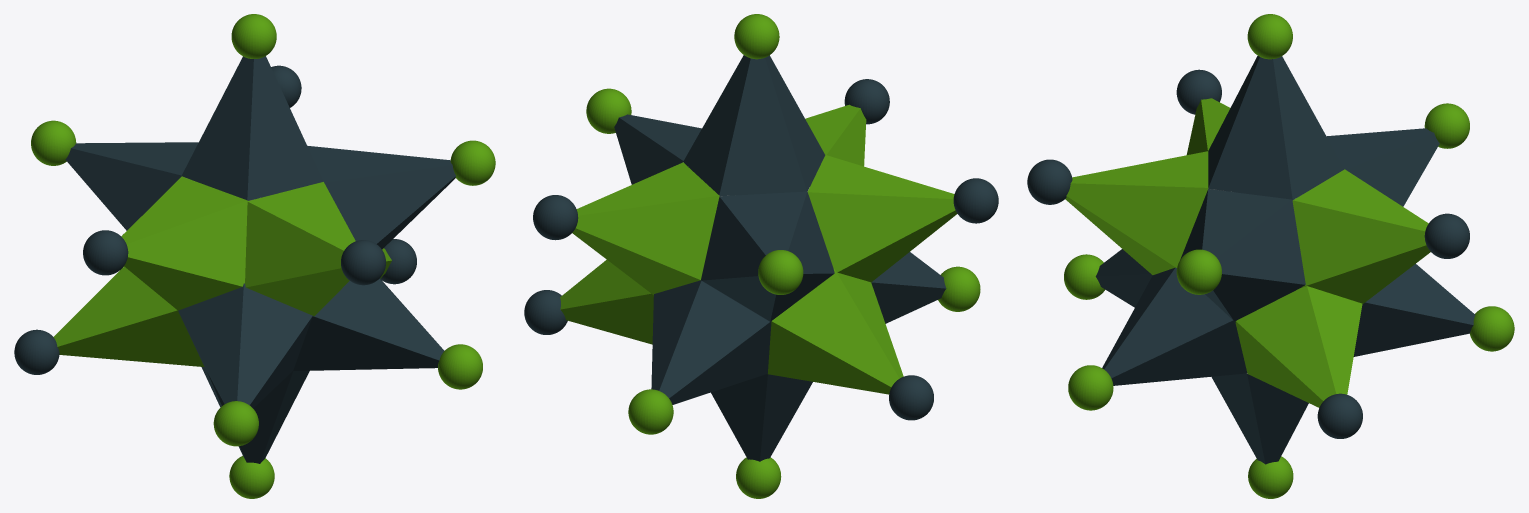
File: Simbolo_Conetbiai.glb
3 views of the same model, side by side, from view 1: azimuth 30°, elevation 25°; view 2: azimuth 150°, elevation 25°; view 3: azimuth 270°, elevation 25° (orthographic).
Visible parts, largest first — view 1: Cone.005, Cone, Cone.006, Cone.009, Cone.010, Cone.002, Cone.008, Cone.004, Cone.013, Sphere.001, Sphere.009, Sphere (+8 smaller); view 2: Cone, Cone.003, Cone.005, Cone.008, Cone.007, Cone.004, Cone.013, Cone.011, Cone.002, Cone.009, Cone.006, Sphere.001 (+10 smaller); view 3: Cone, Cone.003, Cone.006, Cone.011, Cone.002, Cone.010, Cone.007, Cone.004, Cone.013, Cone.009, Sphere.008, Sphere.002 (+10 smaller).
Boxes of the visible parts, x1,y1,x2,y2 form: Cone.005: (121, 176, 247, 310); Cone: (182, 56, 323, 200); Cone.006: (245, 182, 355, 316); Cone.009: (178, 283, 312, 408); Cone.010: (293, 278, 444, 370); Cone.002: (307, 145, 455, 249); Cone.008: (53, 266, 204, 366); Cone.004: (65, 142, 198, 230); Cone.013: (201, 367, 309, 463); Sphere.001: (83, 230, 128, 275); Sphere.009: (213, 401, 258, 446); Sphere: (231, 14, 276, 58); Cone: (683, 55, 825, 196); Cone.003: (572, 162, 719, 295); Cone.005: (807, 155, 957, 282); Cone.008: (768, 268, 903, 394); Cone.007: (651, 280, 771, 404); Cone.004: (701, 191, 834, 321); Cone.013: (711, 374, 812, 461); Cone.011: (560, 259, 653, 344); Cone.002: (614, 114, 701, 184); Cone.009: (871, 252, 946, 323); Cone.006: (805, 104, 866, 166); Sphere.001: (953, 178, 998, 223); Cone: (1208, 56, 1344, 200); Cone.003: (1292, 169, 1430, 304); Cone.006: (1065, 151, 1208, 274); Cone.011: (1235, 286, 1362, 407); Cone.002: (1180, 189, 1305, 322); Cone.010: (1102, 267, 1247, 385); Cone.007: (1353, 264, 1475, 356); Cone.004: (1326, 128, 1439, 206); Cone.013: (1211, 373, 1308, 464); Cone.009: (1095, 249, 1152, 307); Sphere.008: (1068, 365, 1113, 410); Sphere.002: (1424, 213, 1469, 258).
Bounding box in the file's own units: 6.25 × 7.03 × 6.44.
